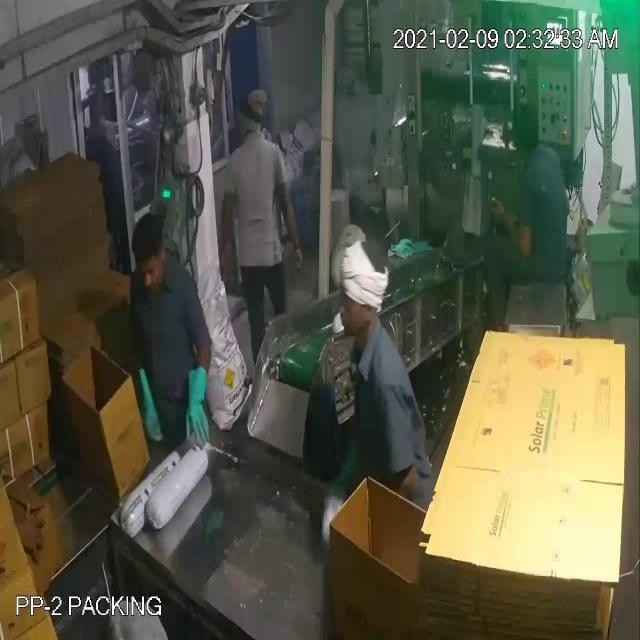Gloves: (28, 82, 508, 406)
